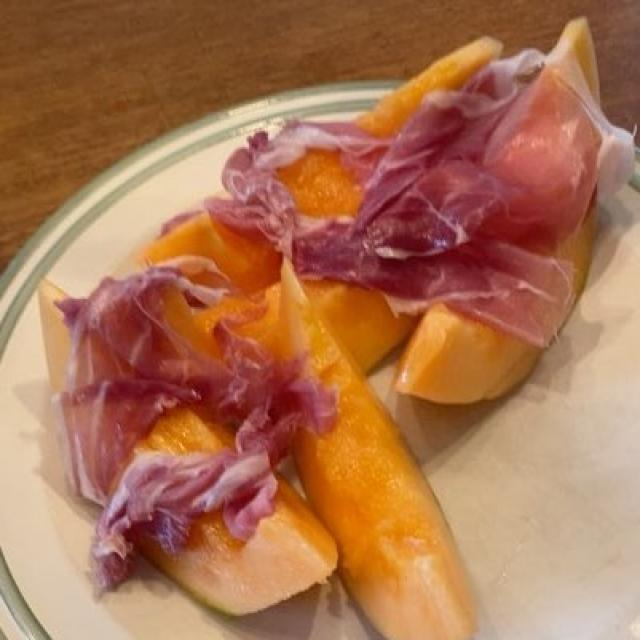ham: (66, 40, 630, 583)
melon: (43, 27, 618, 638)
